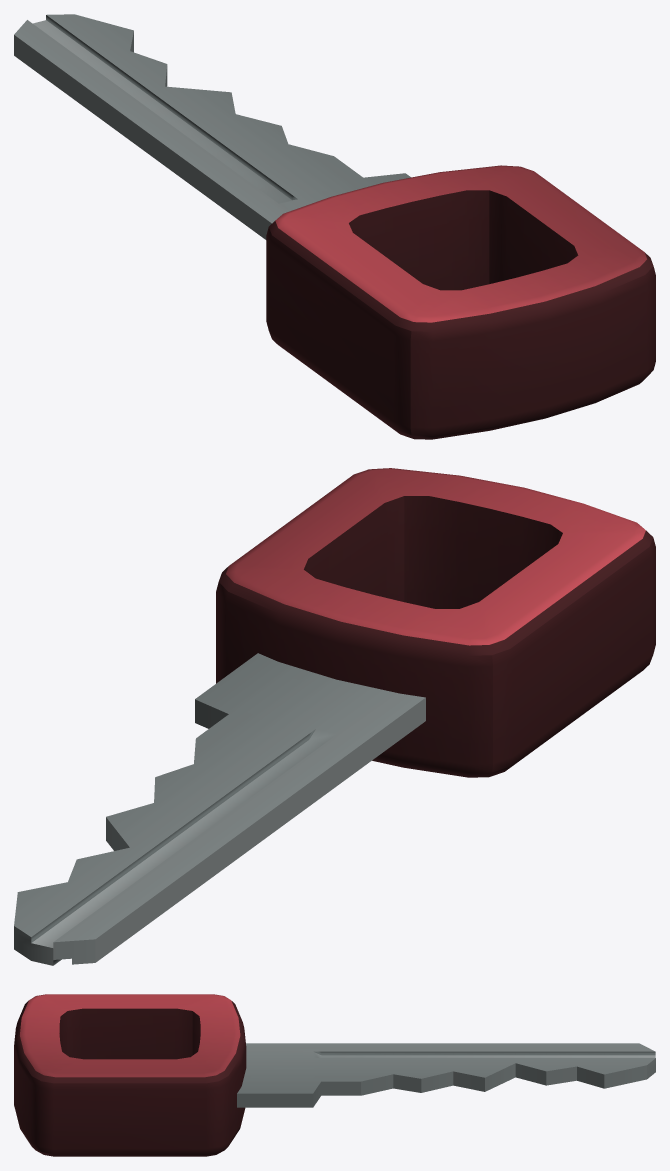
The model's file is chiave_rossa.fbx.
The picture shows the model from 3 angles, top to bottom: view 1: azimuth 30°, elevation 25°; view 2: azimuth 150°, elevation 25°; view 3: azimuth 270°, elevation 25°; orthographic projection. The views are drawn at different scales.
Visible parts, largest first — view 1: chiave_rossa; view 2: chiave_rossa; view 3: chiave_rossa.
Boxes of the visible parts, box(x1,y1,x2,y2) form: chiave_rossa: box(14, 14, 655, 439); chiave_rossa: box(14, 468, 655, 965); chiave_rossa: box(14, 994, 655, 1156).
Bounding box in the file's own units: 2.83 × 1.24 × 8.74.
